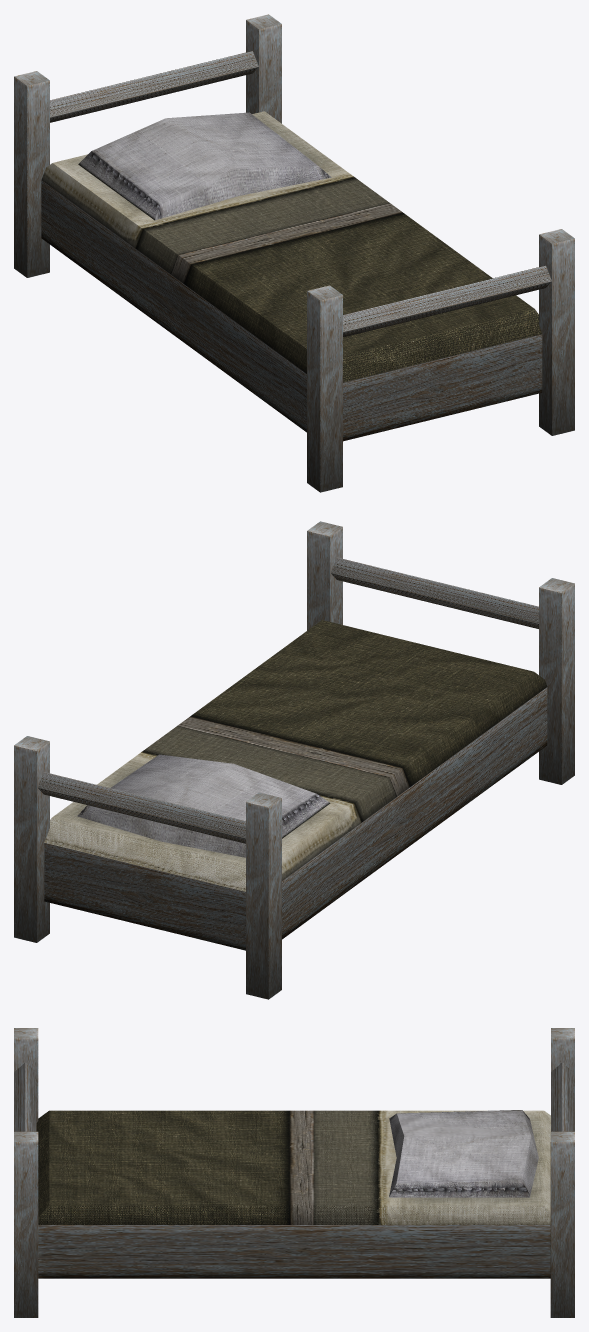
File: mm9_deco_bedmediumplain.glb
3 views of the same model, one above another, from view 1: azimuth 30°, elevation 25°; view 2: azimuth 150°, elevation 25°; view 3: azimuth 270°, elevation 25° (orthographic). The views are drawn at different scales.
Parts seen in each view (by area): view 1: Bedmediumplain; view 2: Bedmediumplain; view 3: Bedmediumplain.
Part boxes in pixels (left/top/right/bottom): Bedmediumplain: left=14, top=14, right=574, bottom=492; Bedmediumplain: left=14, top=521, right=574, bottom=999; Bedmediumplain: left=14, top=1028, right=574, bottom=1317.
Bounding box in the file's own units: 1.47 × 1.06 × 3.05.
Materials: 2 (2 with a texture image).
